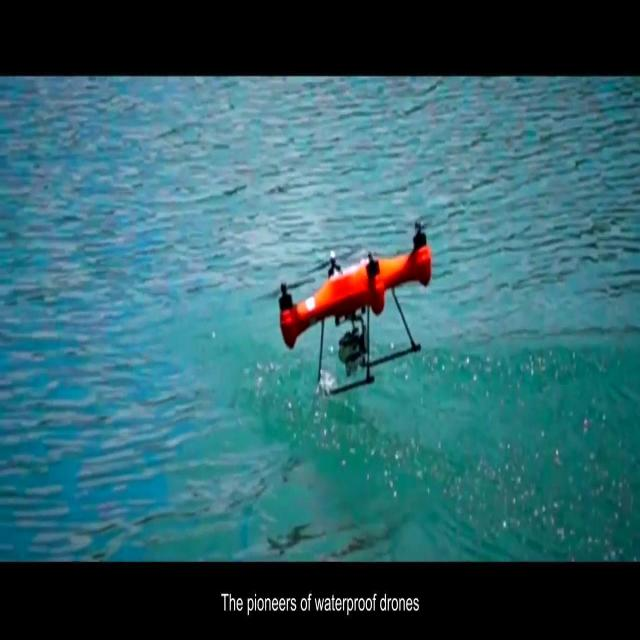UAV: (279, 222, 431, 396)
